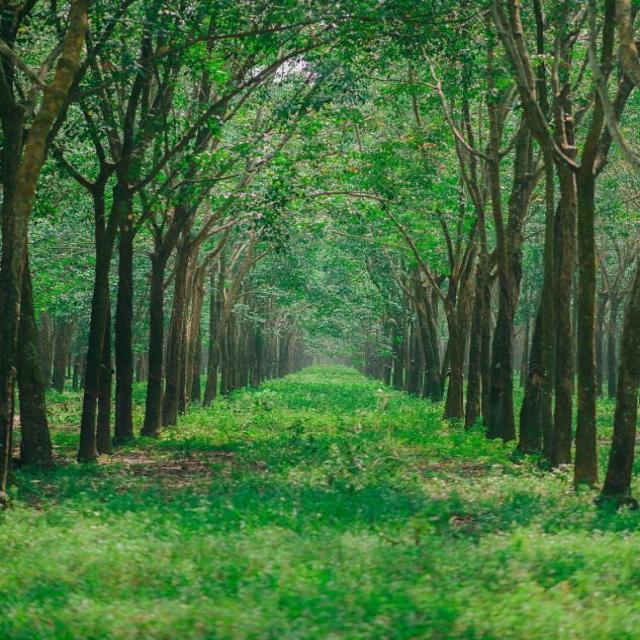row: (0, 364, 639, 640)
